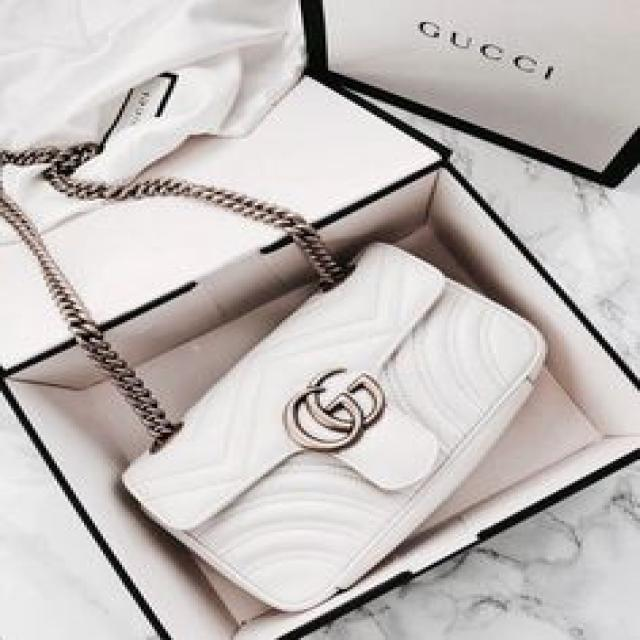handbag: (117, 238, 548, 627)
